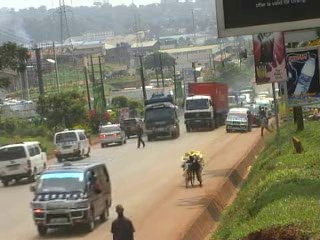Car: (97, 120, 130, 149), (118, 116, 145, 140)
